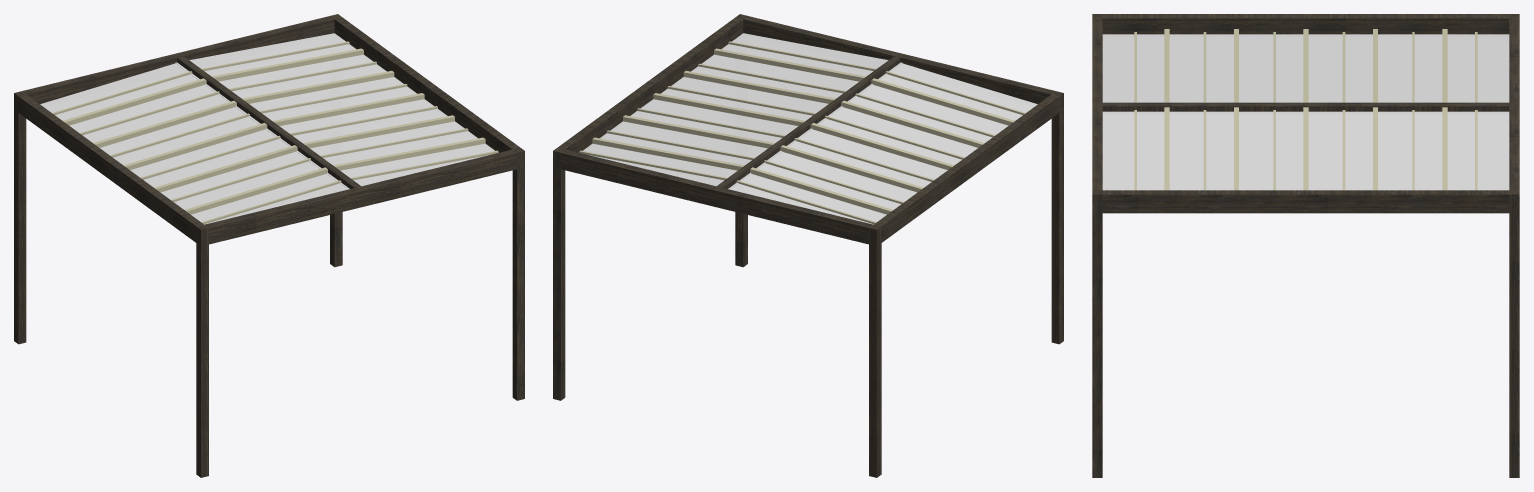
Rendered from hyr-double_h30-w40-l40_blackebony.fbx.
3 views of the same model, side by side, from view 1: azimuth 30°, elevation 25°; view 2: azimuth 150°, elevation 25°; view 3: azimuth 270°, elevation 25° (orthographic). The views are drawn at different scales.
Visible parts, largest first — view 1: hyr-double_h30-w40-l40_blackebony; view 2: hyr-double_h30-w40-l40_blackebony; view 3: hyr-double_h30-w40-l40_blackebony.
Boxes of the visible parts, x1,y1,x2,y2 form: hyr-double_h30-w40-l40_blackebony: (14, 14, 524, 477); hyr-double_h30-w40-l40_blackebony: (553, 14, 1063, 477); hyr-double_h30-w40-l40_blackebony: (1092, 14, 1519, 477).
Bounding box in the file's own units: 410 × 300 × 410.
Materials: 3 (2 with a texture image).
